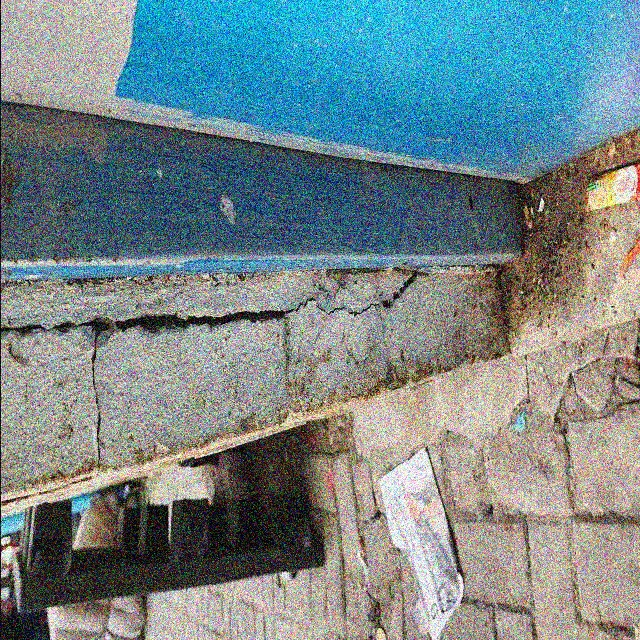SurfaceCrack: (1, 68, 640, 264), (412, 437, 640, 640)
